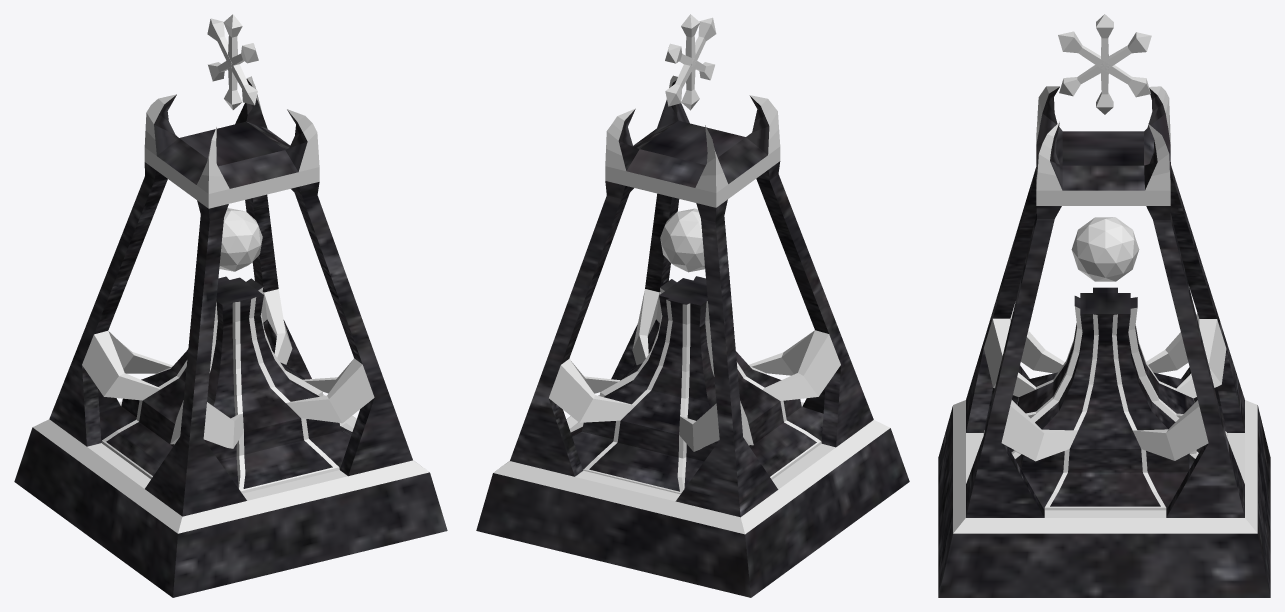
File: buz kulesi.fbx
3 views of the same model, side by side, from view 1: azimuth 30°, elevation 25°; view 2: azimuth 150°, elevation 25°; view 3: azimuth 270°, elevation 25° (orthographic). The views are drawn at different scales.
Visible parts, largest first — view 1: Cube.001, Cube, Cube.002; view 2: Cube.001, Cube, Cube.002; view 3: Cube.001, Cube, Cube.002.
Part boxes in pixels (bbox=[...]): Cube.001: bbox=[14, 76, 447, 597]; Cube: bbox=[207, 14, 258, 109]; Cube.002: bbox=[219, 208, 262, 271]; Cube.001: bbox=[476, 75, 909, 597]; Cube: bbox=[665, 14, 716, 110]; Cube.002: bbox=[660, 208, 705, 272]; Cube.001: bbox=[938, 86, 1270, 597]; Cube: bbox=[1058, 14, 1151, 114]; Cube.002: bbox=[1071, 217, 1139, 281].
Bounding box in the file's own units: 218 × 373 × 218.
